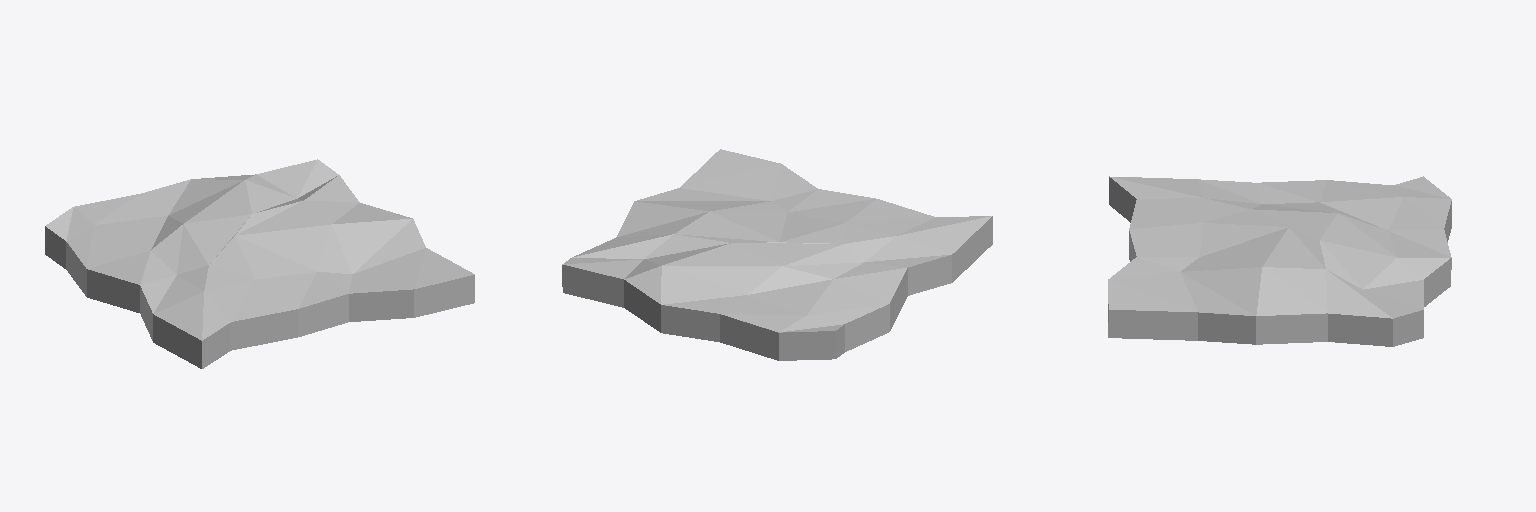
File: Top.obj
3 views of the same model, side by side, from view 1: azimuth 30°, elevation 25°; view 2: azimuth 150°, elevation 25°; view 3: azimuth 270°, elevation 25° (orthographic).
Parts seen in each view (by area): view 1: Cube.000_Cube; view 2: Cube.000_Cube; view 3: Cube.000_Cube.
Part boxes in pixels (left/top/right/bottom): Cube.000_Cube: left=45, top=159, right=474, bottom=368; Cube.000_Cube: left=562, top=149, right=992, bottom=360; Cube.000_Cube: left=1108, top=176, right=1451, bottom=346.
Size of the model in its own units: 2.13 by 0.3306 by 2.18.